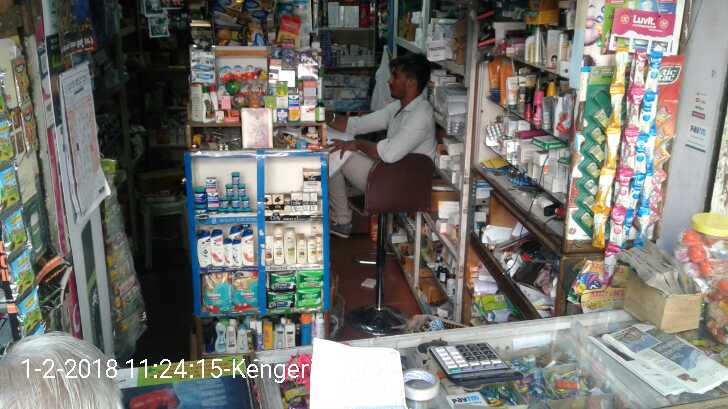beauty: (284, 227, 297, 266), (197, 233, 211, 268), (210, 230, 223, 265), (242, 230, 255, 265), (302, 170, 321, 190), (274, 228, 283, 264), (222, 239, 233, 267), (296, 236, 307, 264), (306, 236, 317, 264), (264, 233, 273, 265), (304, 190, 316, 210), (232, 241, 242, 265), (291, 191, 303, 209), (272, 194, 283, 211), (264, 194, 273, 211), (284, 195, 292, 211)
pharmacy: (199, 273, 232, 311), (232, 271, 258, 308), (267, 271, 295, 292), (265, 291, 294, 309), (295, 290, 322, 309), (295, 270, 321, 289), (191, 187, 207, 205), (206, 194, 219, 209), (205, 176, 217, 191), (231, 171, 240, 185), (225, 182, 233, 197), (237, 183, 245, 197), (220, 196, 228, 209), (231, 197, 239, 209), (242, 195, 249, 208)
